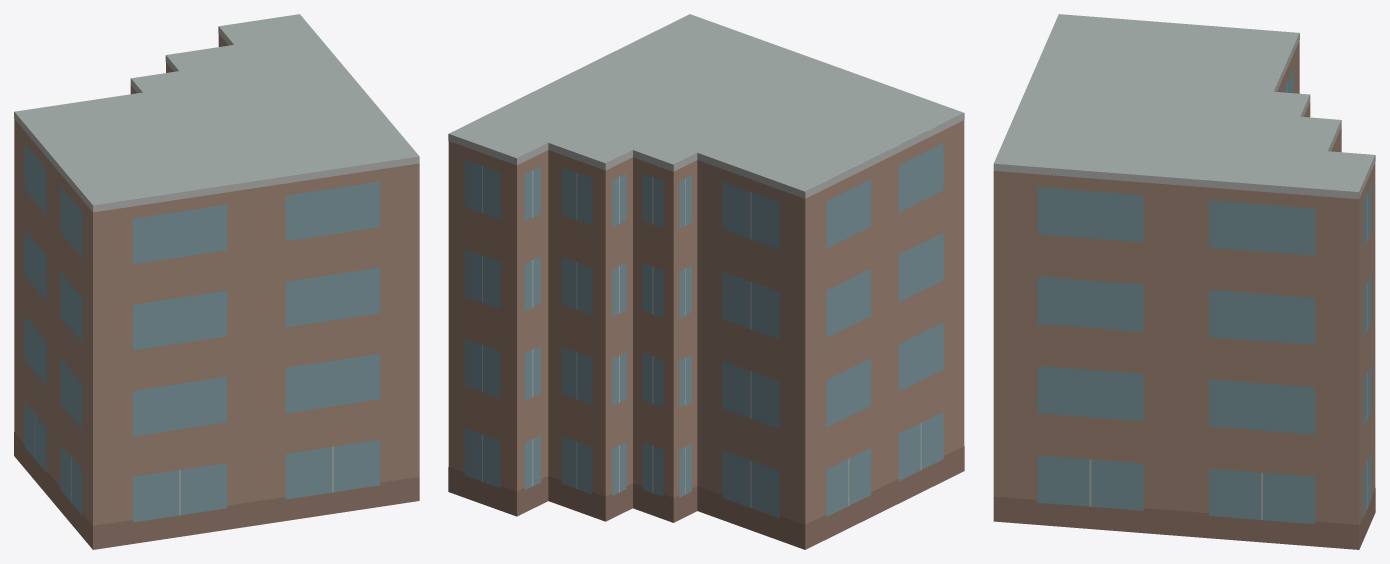
File: residential-9f41b00b-57f8-4655-8de5-35a8a33925e6.glb
3 renders of one model, left to right at view 1: azimuth 30°, elevation 25°; view 2: azimuth 150°, elevation 25°; view 3: azimuth 270°, elevation 25°, orthographic. The views are drawn at different scales.
Visible parts, largest first — view 1: residential-9f41b00b-57f8-4655-8de5-35a8a33925e6.tmp; view 2: residential-9f41b00b-57f8-4655-8de5-35a8a33925e6.tmp; view 3: residential-9f41b00b-57f8-4655-8de5-35a8a33925e6.tmp.
Part boxes in pixels (x1,y1,x2,y2): residential-9f41b00b-57f8-4655-8de5-35a8a33925e6.tmp: [14, 14, 419, 549]; residential-9f41b00b-57f8-4655-8de5-35a8a33925e6.tmp: [448, 14, 964, 549]; residential-9f41b00b-57f8-4655-8de5-35a8a33925e6.tmp: [993, 14, 1375, 549].
Bounding box in the file's own units: 13.04 × 12.2 × 11.81.
